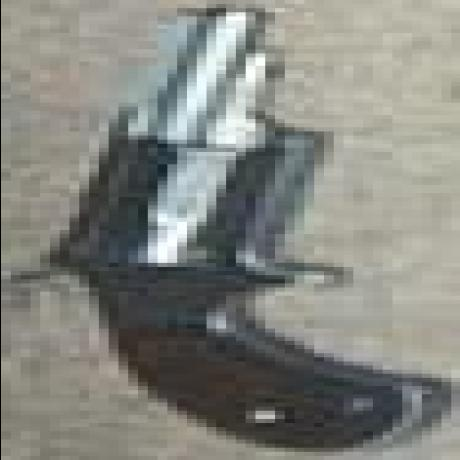weapon: (26, 12, 426, 456)
